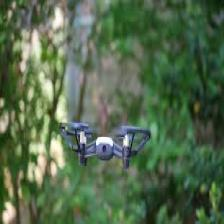drone: (58, 121, 150, 166)
